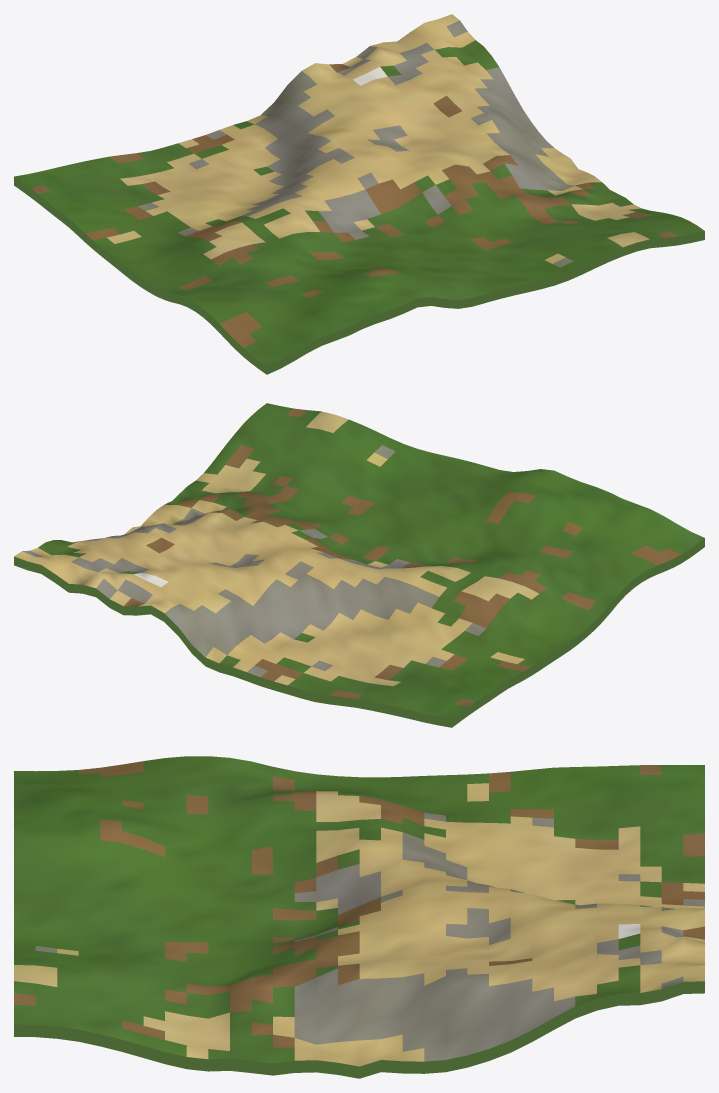
Rendered from chunk_5_7_lod1.glb.
The picture shows the model from 3 angles, top to bottom: view 1: azimuth 30°, elevation 25°; view 2: azimuth 150°, elevation 25°; view 3: azimuth 270°, elevation 25°; orthographic projection. The views are drawn at different scales.
Visible parts, largest first — view 1: Surface_Grass, Surface_Sand, Surface_Gravel, Surface_Dirt, Skirt; view 2: Surface_Grass, Surface_Sand, Surface_Gravel, Surface_Dirt, Skirt; view 3: Surface_Grass, Surface_Sand, Surface_Gravel, Surface_Dirt, Skirt.
Part boxes in pixels (x1,y1,x2,y2): Surface_Grass: (14,40,704,365); Surface_Sand: (107,14,649,263); Surface_Gravel: (138,20,574,267); Surface_Dirt: (30,64,677,347); Skirt: (14,177,704,374); Surface_Grass: (38,403,704,718); Surface_Sand: (14,411,538,686); Surface_Gravel: (22,445,485,677); Surface_Dirt: (124,408,680,706); Skirt: (14,538,704,727); Surface_Grass: (14,756,704,1063); Surface_Sand: (14,783,704,1066); Surface_Gravel: (35,812,704,1061); Surface_Dirt: (14,761,704,1047); Skirt: (14,981,704,1078).
Size of the model in its own units: 256 by 41.08 by 256.
